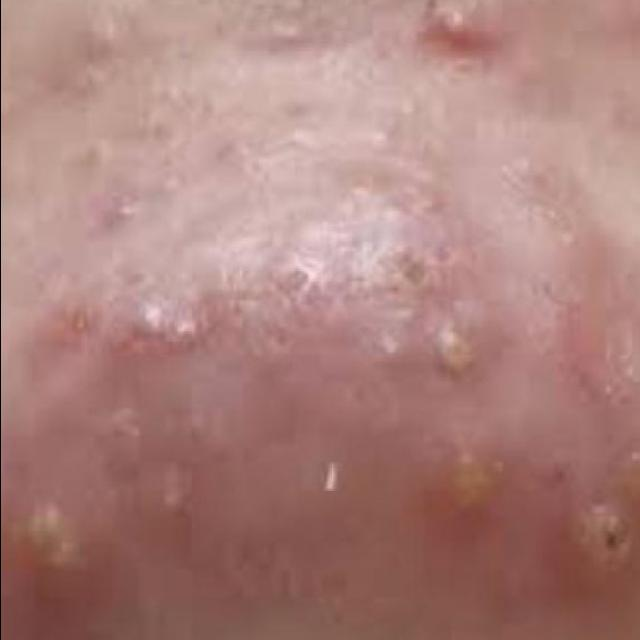pustule: (382, 273, 537, 584), (0, 451, 103, 634)
